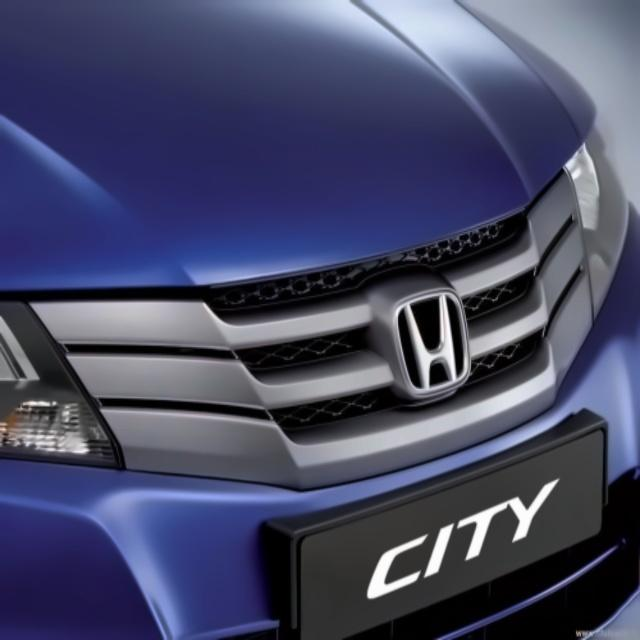Car hood: (0, 2, 616, 296)
Front bumper: (0, 199, 640, 640)
Headlight - -L-: (550, 102, 635, 334)
Headlight - -R-: (0, 278, 128, 479)
